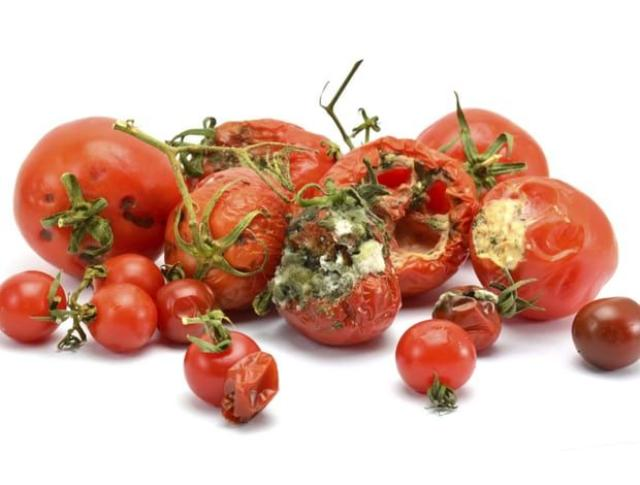defect: (9, 117, 184, 284), (314, 134, 478, 301), (473, 175, 620, 326), (262, 211, 407, 349), (163, 165, 295, 313), (171, 110, 348, 211), (428, 286, 505, 354), (219, 348, 281, 424)
